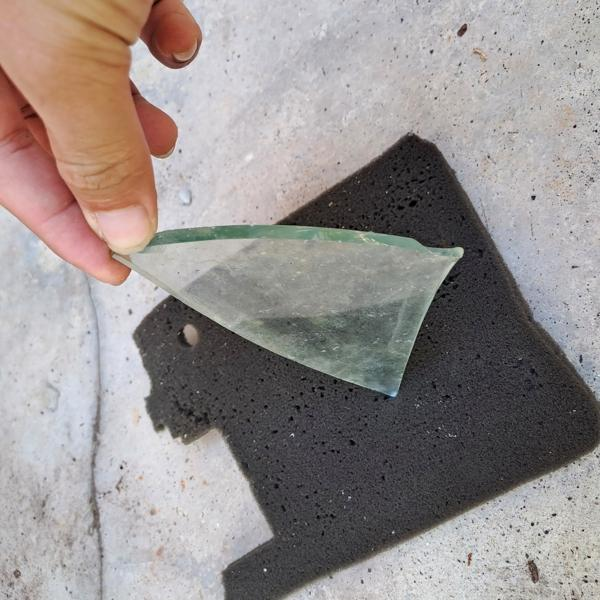Anorganik: (110, 208, 470, 427)
